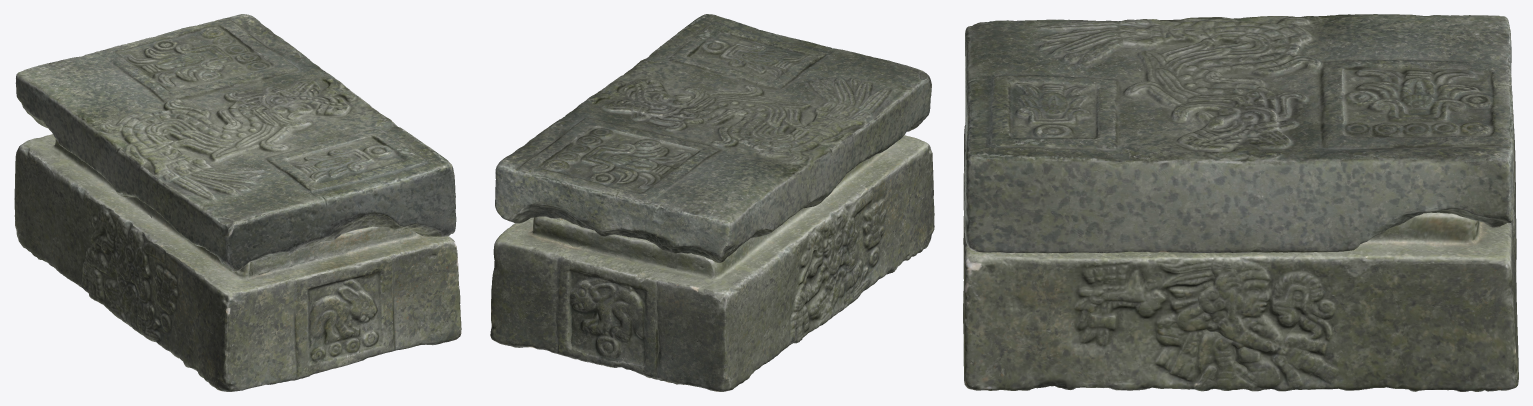
The model's file is sacrificialcasket-transformed.glb.
3 views of the same model, side by side, from view 1: azimuth 30°, elevation 25°; view 2: azimuth 150°, elevation 25°; view 3: azimuth 270°, elevation 25° (orthographic). The views are drawn at different scales.
Visible parts, largest first — view 1: 1939.32.0001 (offerkista lock)001; view 2: 1939.32.0001 (offerkista lock)001; view 3: 1939.32.0001 (offerkista lock)001.
Boxes of the visible parts, x1,y1,x2,y2 form: 1939.32.0001 (offerkista lock)001: (14,14,461,391); 1939.32.0001 (offerkista lock)001: (490,14,934,391); 1939.32.0001 (offerkista lock)001: (963,14,1518,391).
Bounding box in the file's own units: 0.2792 × 0.2033 × 0.4279.
Materials: 2 (2 with a texture image).
